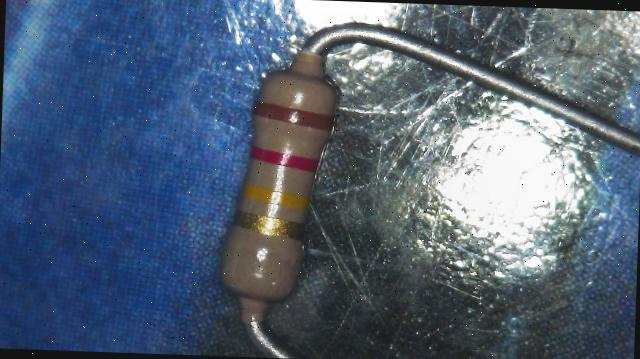brown: (238, 104, 340, 128)
gold: (233, 214, 301, 236)
red: (238, 148, 320, 167)
resistor: (193, 37, 375, 337)
yellow: (240, 186, 310, 206)
